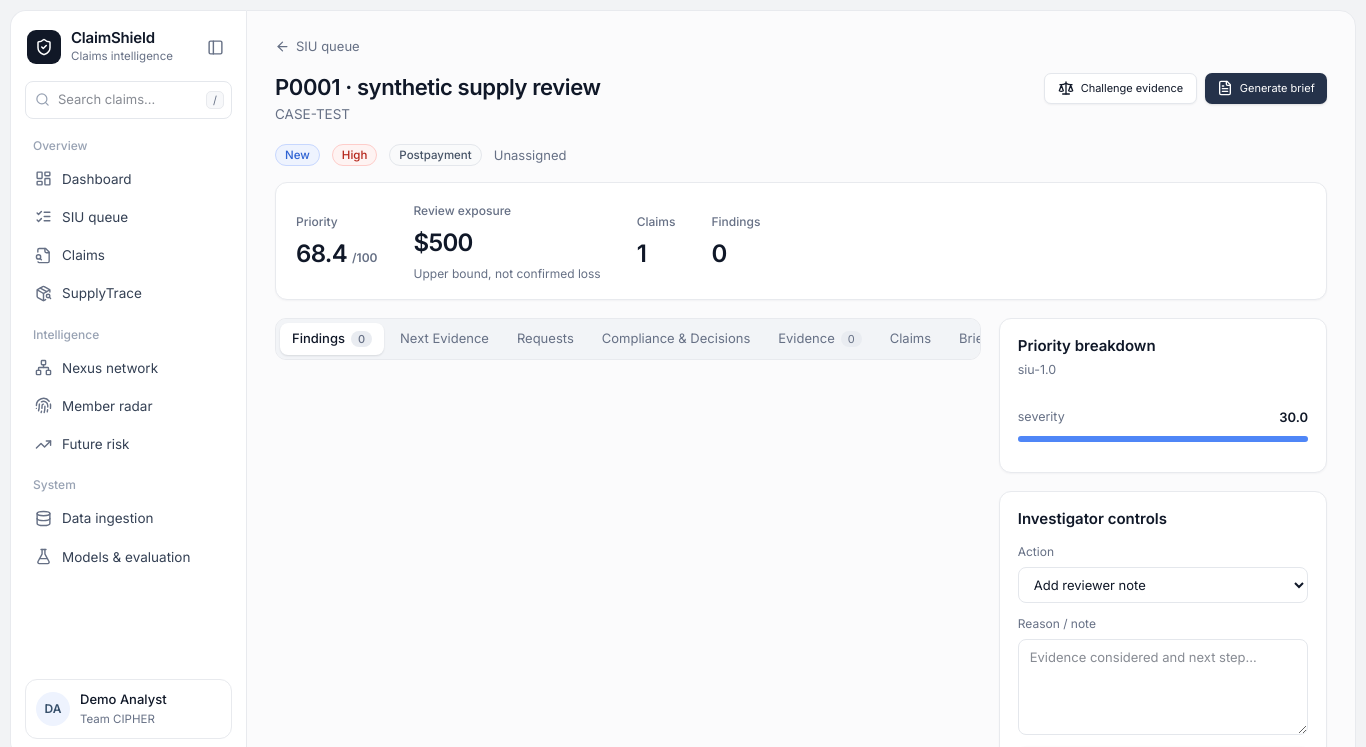
it: Investigator console › generates a brief with POST
What coordinates should you click on to do the following:
click the button "Generate brief"
I would click on:
 (1266, 88)
Its box is [1204,72,1327,104].
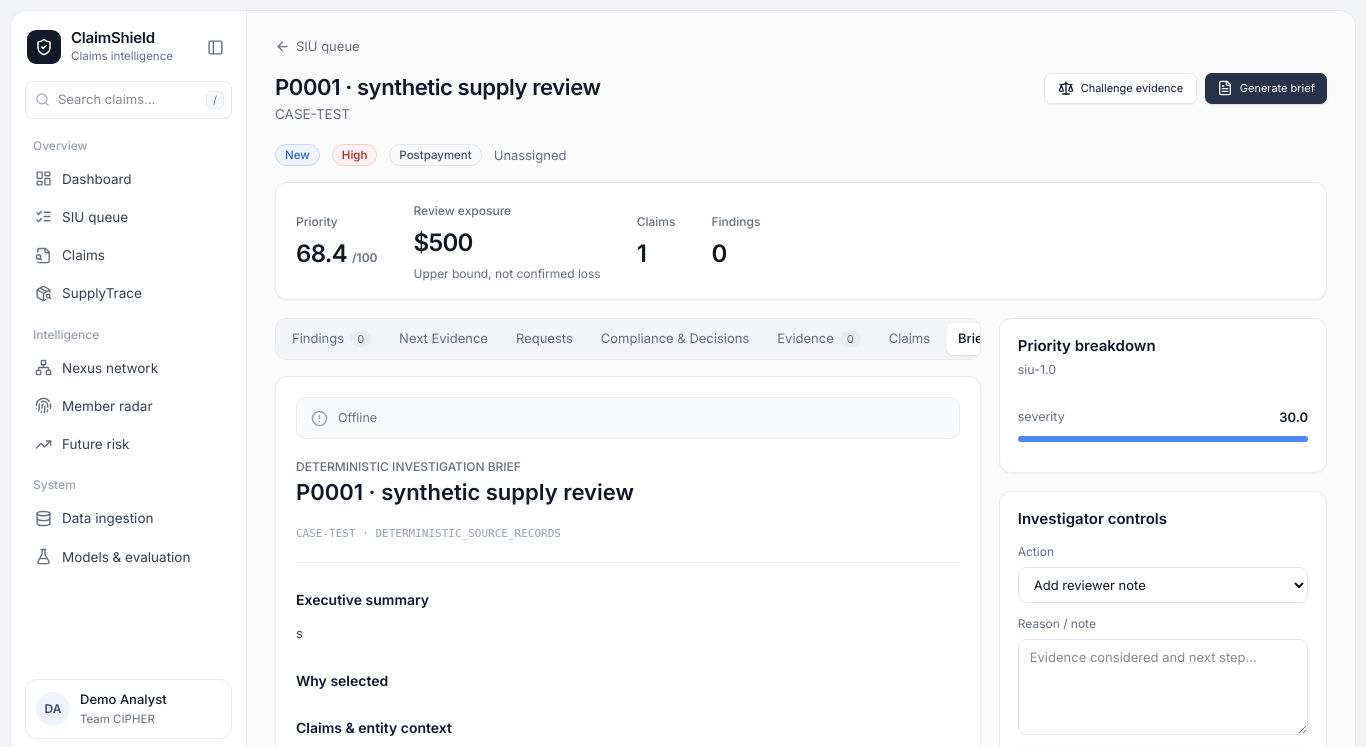
Check: the text "DETERMINISTIC INVESTIGATION BRIEF" is shown, box [296,459,521,474]
